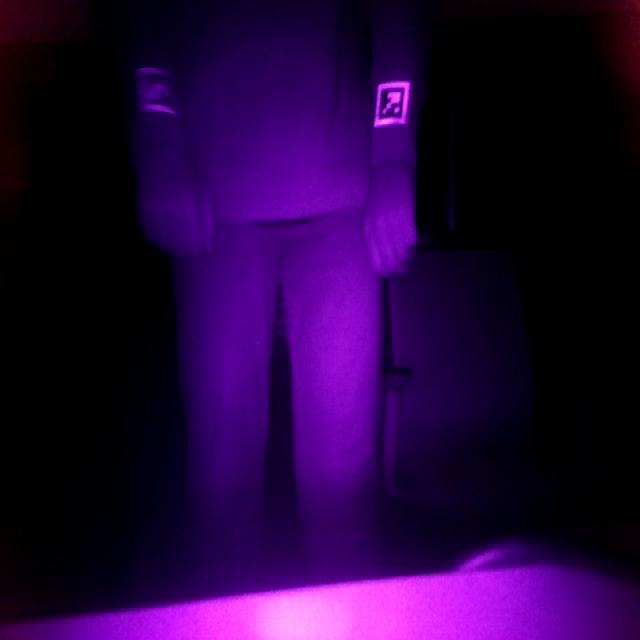Apriltags: (136, 65, 182, 116), (372, 78, 412, 127)
